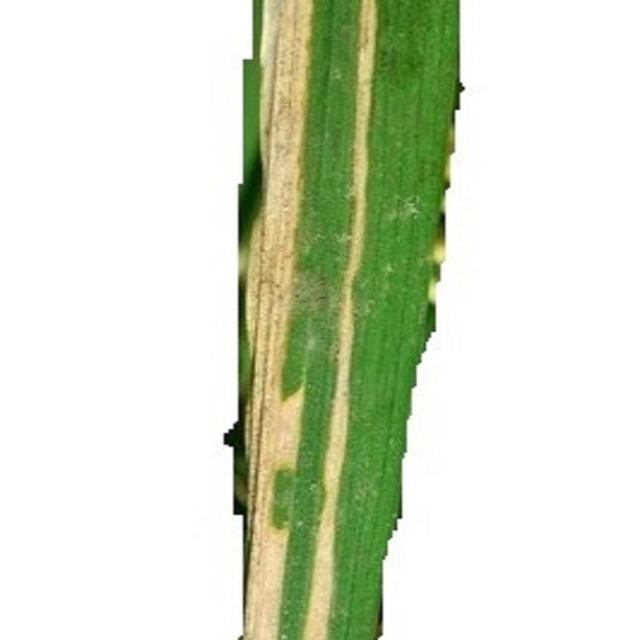leaf blight: (221, 1, 395, 640)
